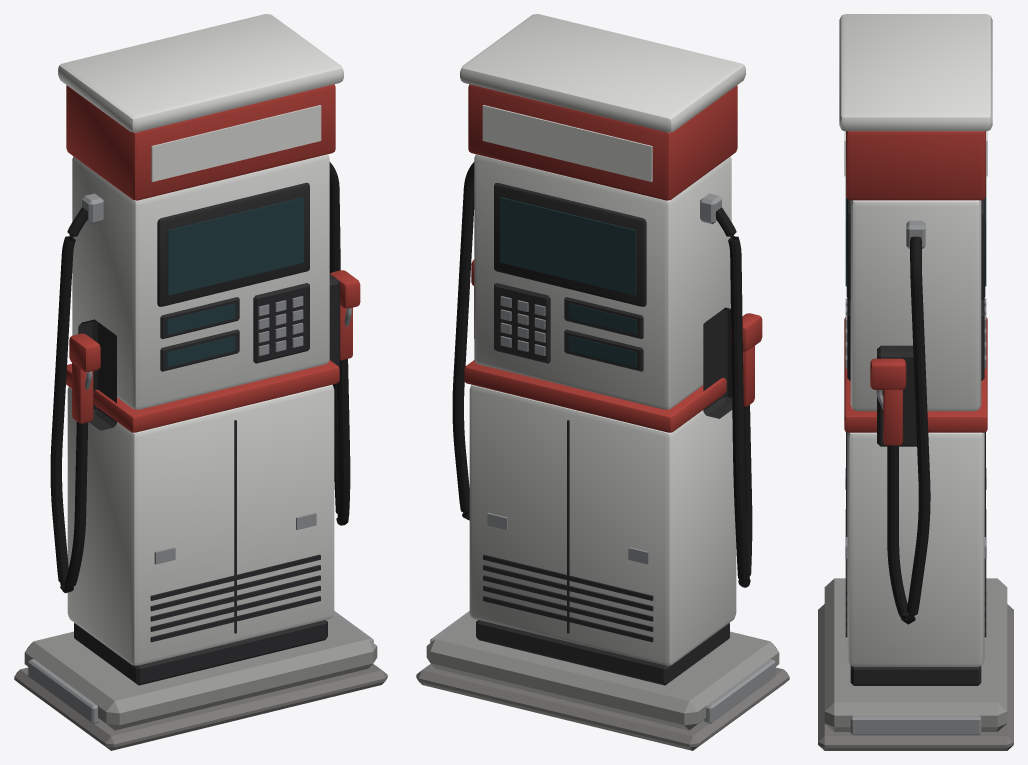
The model's file is GasPump.fbx.
3 renders of one model, left to right at view 1: azimuth 30°, elevation 25°; view 2: azimuth 150°, elevation 25°; view 3: azimuth 270°, elevation 25°, orthographic.
Visible parts, largest first — view 1: GasPump_Mesh; view 2: GasPump_Mesh; view 3: GasPump_Mesh.
Part boxes in pixels (bbox=[...]): GasPump_Mesh: bbox=[14, 14, 387, 750]; GasPump_Mesh: bbox=[416, 14, 789, 750]; GasPump_Mesh: bbox=[818, 14, 1013, 750].
Bounding box in the file's own units: 1.03 × 2.1 × 0.6.
